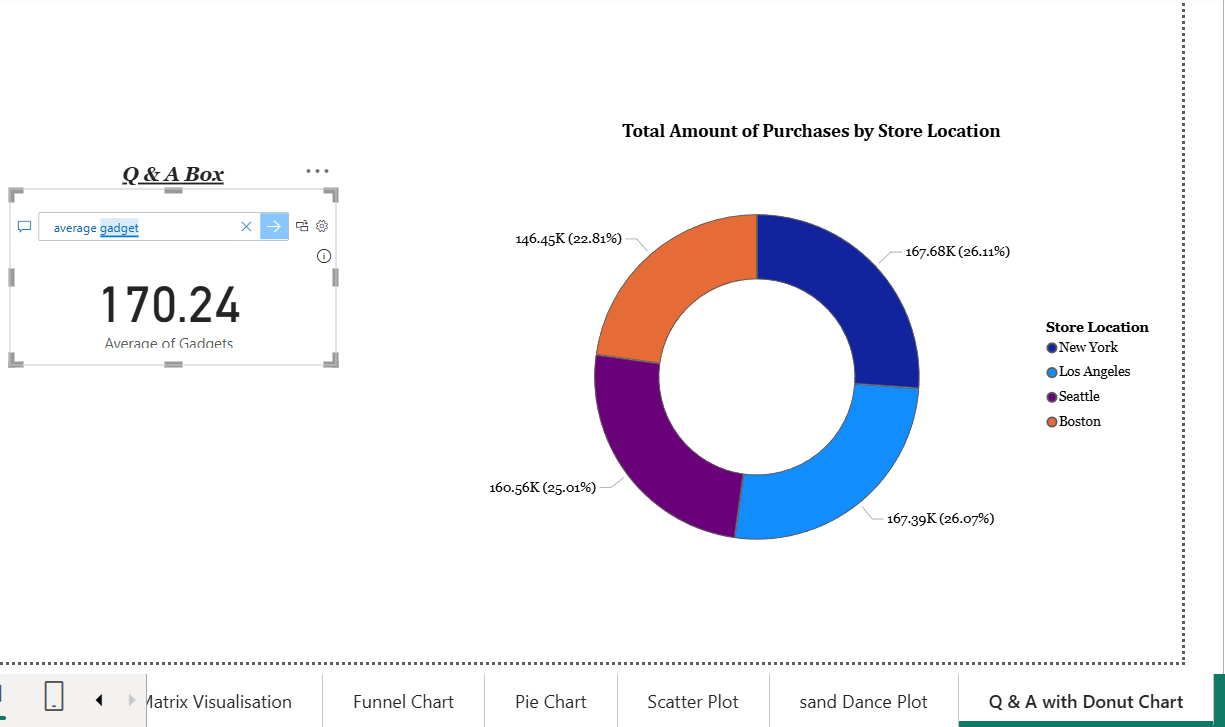

What the dashboard file says about the page in this screenshot:
{"tool":"powerbi","page":{"name":"Q & A with Donut Chart","canvas":[1280,720],"ordinal":7},"visuals":[{"type":"qnaVisual","box":[14.6,208.9,353,191.1],"z":0},{"type":"donutChart","title":"Total Amount of Purchases by Store Location","fields":{"Y":["Sum(Student Survey.Total Amount of Purchases)"],"Category":["Student Survey.Store Location"]},"box":[503.6,134.4,752.9,531.1],"z":1},{"type":"textbox","box":[14.6,176.5,353,47],"z":2}]}

Visuals, with their boxes on the page's 1280x720 design canvas (x1, y1, x2, y2). These are canvas units, not pixel positions in the 1225x727 screenshot, which may show the page scaled, cropped or inside an application window:
qnaVisual: Rect(15, 209, 368, 400)
"Total Amount of Purchases by Store Location" donutChart: Rect(504, 134, 1256, 666)
textbox: Rect(15, 176, 368, 224)
